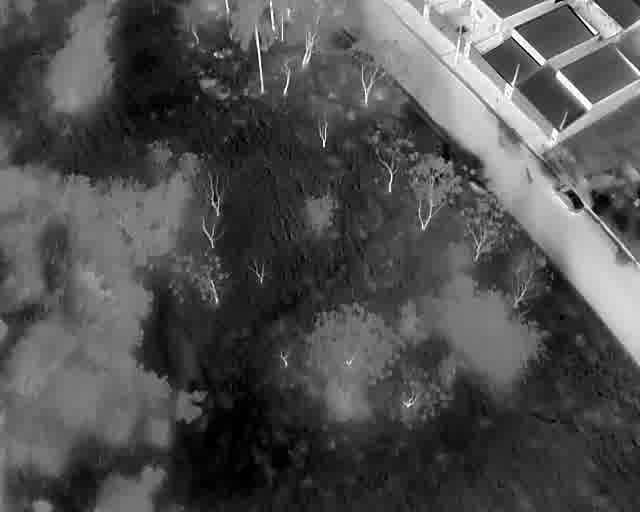car: (551, 181, 584, 214), (454, 22, 471, 36)
